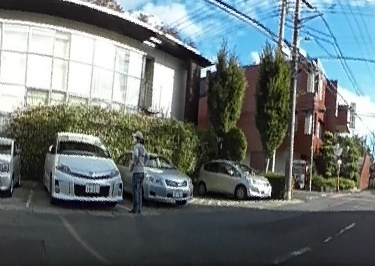person: (126, 129, 145, 212)
